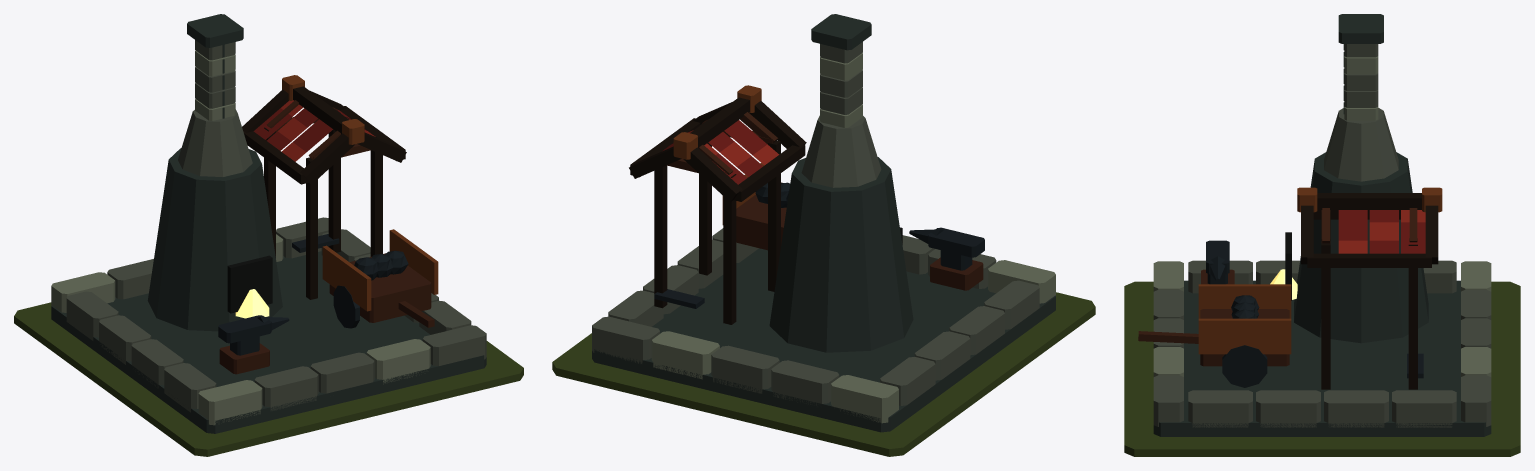
The model's file is smeltery_t1.glb.
The picture shows the model from 3 angles, left to right: view 1: azimuth 30°, elevation 25°; view 2: azimuth 150°, elevation 25°; view 3: azimuth 270°, elevation 25°; orthographic projection. The views are drawn at different scales.
Visible parts, largest first — view 1: MMR | smeltery | T01 Architecture.001, MMR | smeltery | Tier 01 Ground.001; view 2: MMR | smeltery | T01 Architecture.001, MMR | smeltery | Tier 01 Ground.001; view 3: MMR | smeltery | T01 Architecture.001, MMR | smeltery | Tier 01 Ground.001.
Boxes of the visible parts, <box> form: MMR | smeltery | T01 Architecture.001: <box>51,14,486,433</box>; MMR | smeltery | Tier 01 Ground.001: <box>14,302,523,456</box>; MMR | smeltery | T01 Architecture.001: <box>592,14,1055,432</box>; MMR | smeltery | Tier 01 Ground.001: <box>552,292,1095,456</box>; MMR | smeltery | T01 Architecture.001: <box>1138,14,1491,436</box>; MMR | smeltery | Tier 01 Ground.001: <box>1124,281,1520,456</box>.
Bounding box in the file's own units: 2.35 × 2.17 × 2.35.
Materials: 2 (1 with a texture image).
